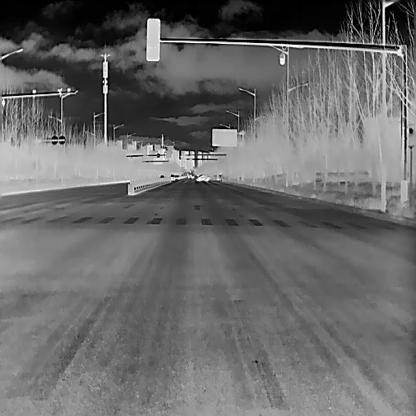car: (195, 173, 209, 180), (169, 172, 175, 180), (158, 173, 164, 177), (190, 172, 194, 178)
